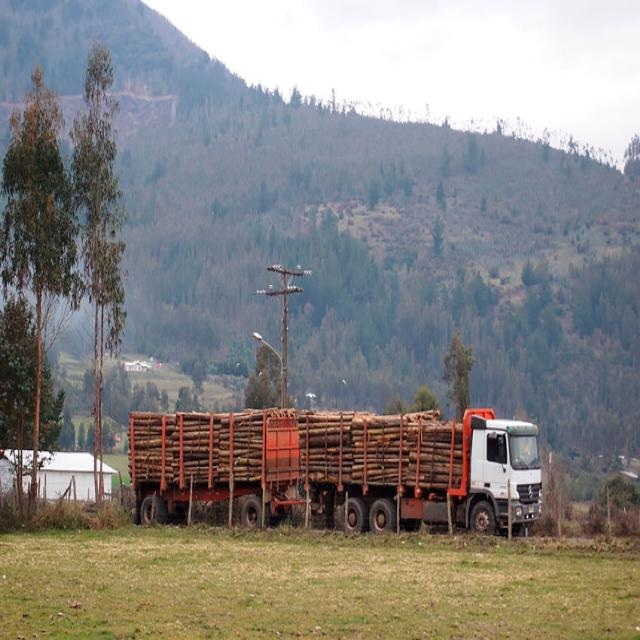Truck: (300, 403, 552, 529)
